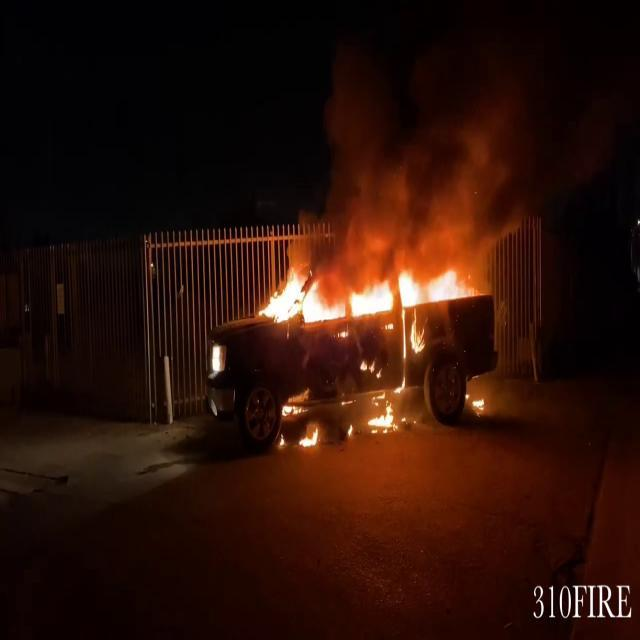Fire: (256, 258, 480, 332), (367, 395, 398, 435), (298, 422, 322, 454)
Smoke: (316, 5, 598, 267)
